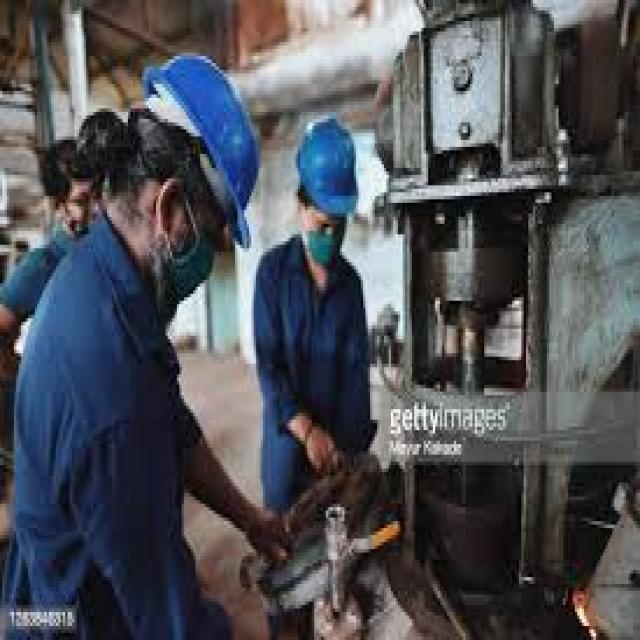Safety-Helmet: (130, 45, 268, 252), (286, 105, 368, 227)
